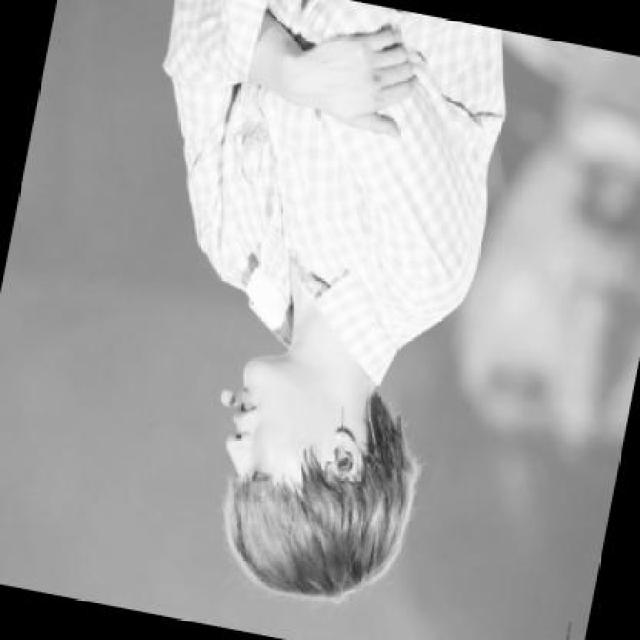earphone: (321, 440, 361, 482)
